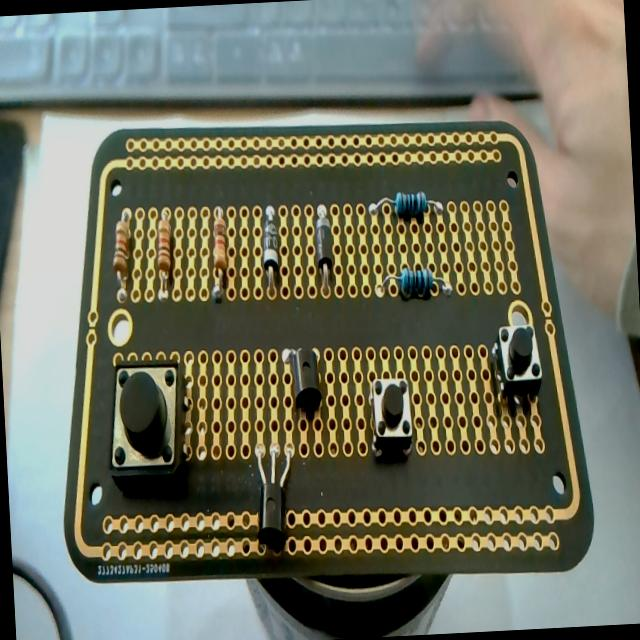diode: (314, 203, 336, 294), (260, 204, 282, 294)
resistor: (374, 264, 451, 302), (368, 190, 443, 223), (110, 210, 135, 302), (210, 206, 232, 298), (154, 215, 174, 297)
switch: (106, 357, 188, 479), (490, 318, 544, 411), (367, 375, 414, 459)
transistor: (244, 436, 300, 556), (284, 347, 322, 416)
